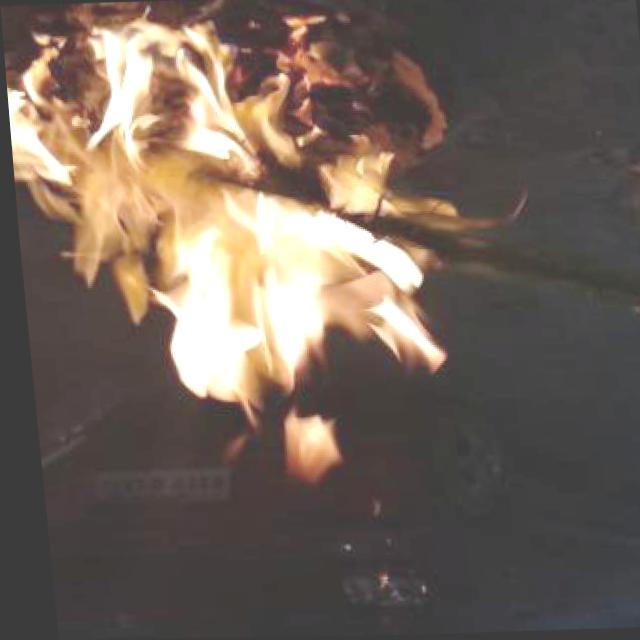helmet: (4, 11, 462, 483)
